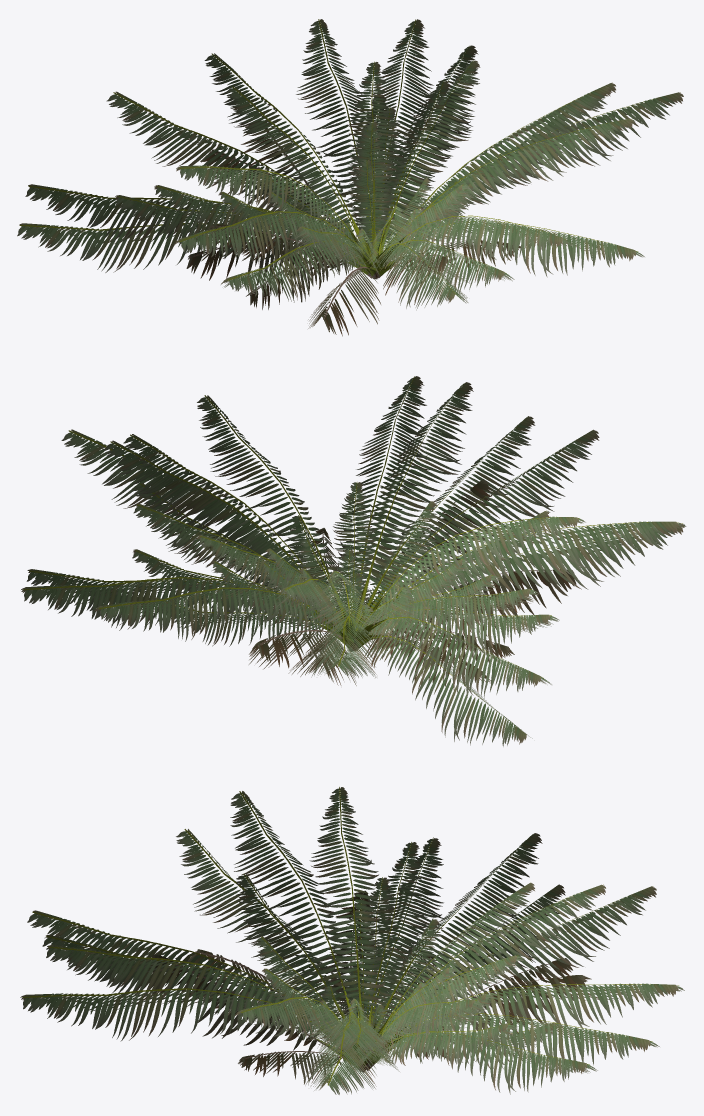
File: Fern 01_LOD1.obj
3 renders of one model, top to bottom at view 1: azimuth 30°, elevation 25°; view 2: azimuth 150°, elevation 25°; view 3: azimuth 270°, elevation 25°, orthographic. The views are drawn at different scales.
Visible parts, largest first — view 1: fern leaf 01, fern leaf 02, stem 02; view 2: fern leaf 01, fern leaf 02, stem 02; view 3: fern leaf 01, fern leaf 02, stem 02.
Part boxes in pixels (<box>): fern leaf 01: <box>17,19,683,310</box>; fern leaf 02: <box>186,120,525,336</box>; stem 02: <box>329,205,423,279</box>; fern leaf 01: <box>21,376,686,746</box>; fern leaf 02: <box>249,479,576,688</box>; stem 02: <box>299,563,400,651</box>; fern leaf 01: <box>20,787,684,1094</box>; fern leaf 02: <box>144,890,591,1084</box>; stem 02: <box>310,986,414,1072</box>.
Bounding box in the file's own units: 122 × 35.24 × 119.
3 materials, 3 textured.
